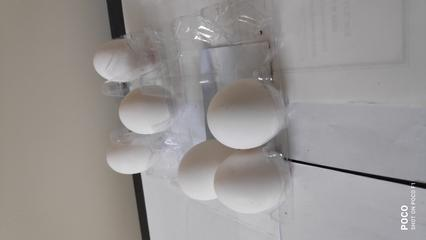eggs: (90, 50, 167, 171), (171, 133, 293, 208), (198, 84, 296, 144)
